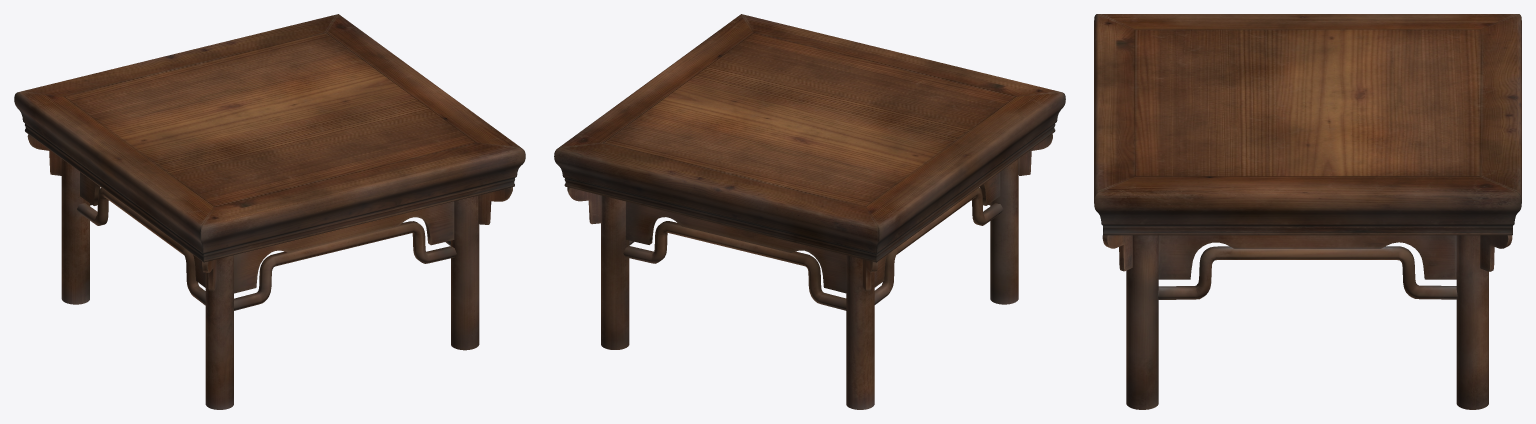
Rendered from chinese_tea_table.glb.
The picture shows the model from 3 angles, left to right: view 1: azimuth 30°, elevation 25°; view 2: azimuth 150°, elevation 25°; view 3: azimuth 270°, elevation 25°; orthographic projection. The views are drawn at different scales.
Visible parts, largest first — view 1: chinese_tea_table; view 2: chinese_tea_table; view 3: chinese_tea_table.
Part boxes in pixels (x1,y1,x2,y2): chinese_tea_table: [14, 14, 525, 409]; chinese_tea_table: [554, 14, 1065, 409]; chinese_tea_table: [1094, 14, 1521, 409].
Size of the model in its own units: 0.8413 by 0.4986 by 0.8356.
Materials: 1 (1 with a texture image).
